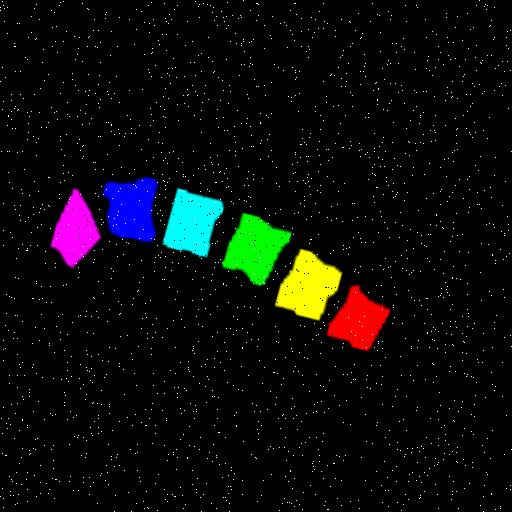L1: (332, 278, 395, 343)
L2: (280, 243, 346, 313)
L3: (226, 207, 294, 278)
L4: (166, 185, 226, 252)
L5: (105, 173, 159, 239)
S1: (55, 187, 104, 264)
